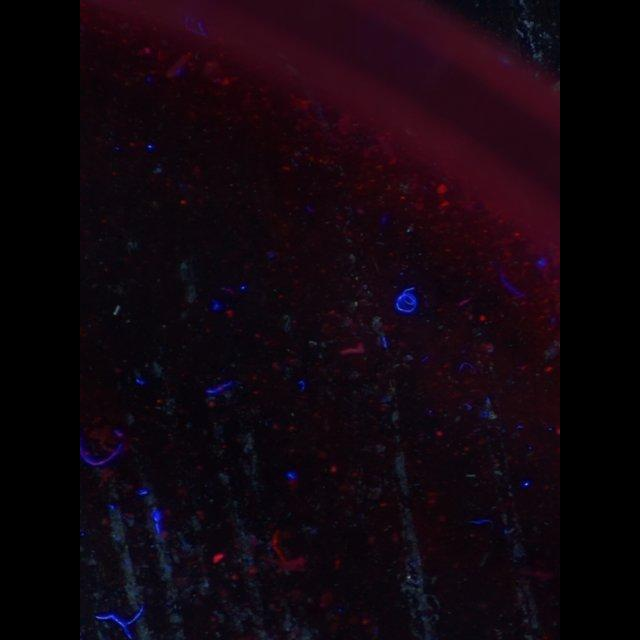microbeads: (112, 304, 120, 316)
